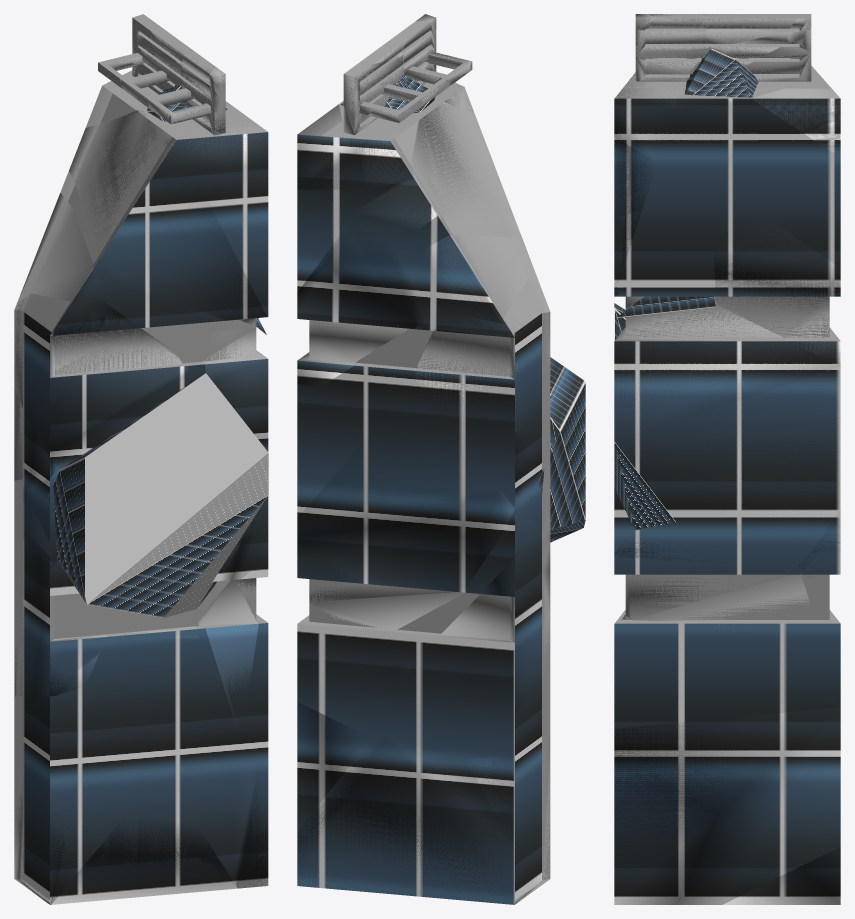
3 views of the same model, side by side, from view 1: azimuth 30°, elevation 25°; view 2: azimuth 150°, elevation 25°; view 3: azimuth 270°, elevation 25° (orthographic). The views are drawn at different scales.
Parts seen in each view (by area): view 1: mqo_mesh.001, mqo_mesh.001_cell.021, mqo_mesh.001_cell.027, mqo_mesh.001_cell.002, mqo_mesh.001_cell.046, mqo_mesh.001_cell.025, mqo_mesh.001_cell, mqo_mesh.001_cell.018, mqo_mesh.001_cell.036, mqo_mesh.001_cell.033, mqo_mesh.001_cell.022, mqo_mesh.001_cell.001 (+7 smaller); view 2: mqo_mesh.001, mqo_mesh.001_cell.042, mqo_mesh.001_cell, mqo_mesh.001_cell.035, mqo_mesh.001_cell.025, mqo_mesh.001_cell.033, mqo_mesh.001_cell.018, mqo_mesh.001_cell.021, mqo_mesh.001_cell.002, mqo_mesh.001_cell.010, mqo_mesh.001_cell.047, mqo_mesh.001_cell.008 (+8 smaller); view 3: mqo_mesh.001, mqo_mesh.001_cell.036, mqo_mesh.001_cell.010, mqo_mesh.001_cell.040, mqo_mesh.001_cell.035, mqo_mesh.001_cell.022, mqo_mesh.001_cell.001, mqo_mesh.001_cell.046, mqo_mesh.001_cell.047, mqo_mesh.001_cell, mqo_mesh.001_cell.021, mqo_mesh.001_cell.034 (+7 smaller).
Part boxes in pixels (x1,y1,x2,y2): mqo_mesh.001: [14, 14, 268, 901]; mqo_mesh.001_cell.021: [48, 373, 268, 617]; mqo_mesh.001_cell.027: [62, 626, 198, 826]; mqo_mesh.001_cell.002: [14, 293, 189, 470]; mqo_mesh.001_cell.046: [170, 167, 268, 324]; mqo_mesh.001_cell.025: [69, 110, 177, 305]; mqo_mesh.001_cell: [14, 812, 237, 904]; mqo_mesh.001_cell.018: [14, 539, 107, 696]; mqo_mesh.001_cell.036: [202, 328, 268, 451]; mqo_mesh.001_cell.033: [20, 193, 102, 305]; mqo_mesh.001_cell.022: [197, 578, 258, 733]; mqo_mesh.001_cell.001: [160, 110, 268, 167]; mqo_mesh.001: [297, 18, 550, 904]; mqo_mesh.001_cell.042: [297, 418, 519, 633]; mqo_mesh.001_cell: [297, 732, 548, 903]; mqo_mesh.001_cell.035: [297, 222, 424, 387]; mqo_mesh.001_cell.025: [350, 104, 505, 240]; mqo_mesh.001_cell.033: [422, 233, 536, 324]; mqo_mesh.001_cell.018: [399, 544, 550, 714]; mqo_mesh.001_cell.021: [538, 357, 585, 542]; mqo_mesh.001_cell.002: [414, 278, 550, 435]; mqo_mesh.001_cell.010: [297, 702, 363, 830]; mqo_mesh.001_cell.047: [297, 104, 365, 189]; mqo_mesh.001_cell.008: [297, 190, 349, 283]; mqo_mesh.001: [614, 14, 840, 904]; mqo_mesh.001_cell.036: [614, 305, 840, 553]; mqo_mesh.001_cell.010: [614, 707, 840, 904]; mqo_mesh.001_cell.040: [657, 49, 766, 248]; mqo_mesh.001_cell.035: [714, 216, 840, 365]; mqo_mesh.001_cell.022: [614, 536, 840, 707]; mqo_mesh.001_cell.001: [614, 57, 687, 162]; mqo_mesh.001_cell.046: [614, 136, 657, 291]; mqo_mesh.001_cell.047: [752, 87, 840, 157]; mqo_mesh.001_cell: [723, 847, 840, 904]; mqo_mesh.001_cell.021: [614, 303, 675, 530]; mqo_mesh.001_cell.034: [635, 14, 708, 73].
Size of the model in its own units: 5010 by 21182 by 5005.
